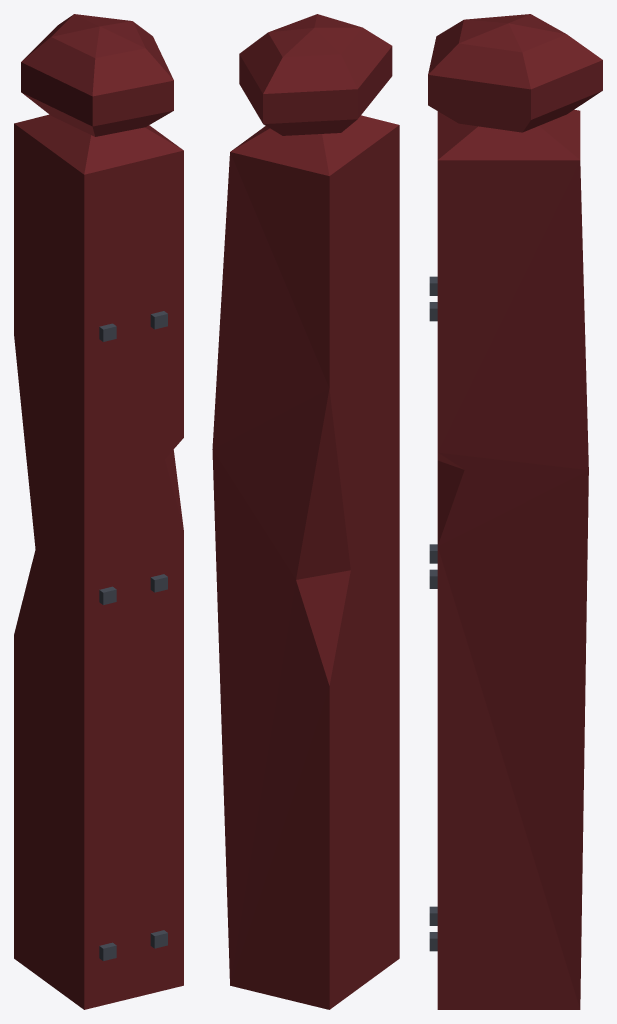
Rendered from Fence_3_4  Asia.fbx.
3 views of the same model, side by side, from view 1: azimuth 30°, elevation 25°; view 2: azimuth 150°, elevation 25°; view 3: azimuth 270°, elevation 25° (orthographic).
Visible parts, largest first — view 1: Fence_3_4; view 2: Fence_3_4; view 3: Fence_3_4.
Part boxes in pixels (left/top/right/bottom): Fence_3_4: left=14, top=14, right=183, bottom=1009; Fence_3_4: left=212, top=14, right=399, bottom=1009; Fence_3_4: left=428, top=14, right=602, bottom=1009.
Size of the model in its own units: 0.1437 by 1.04 by 0.1707.
